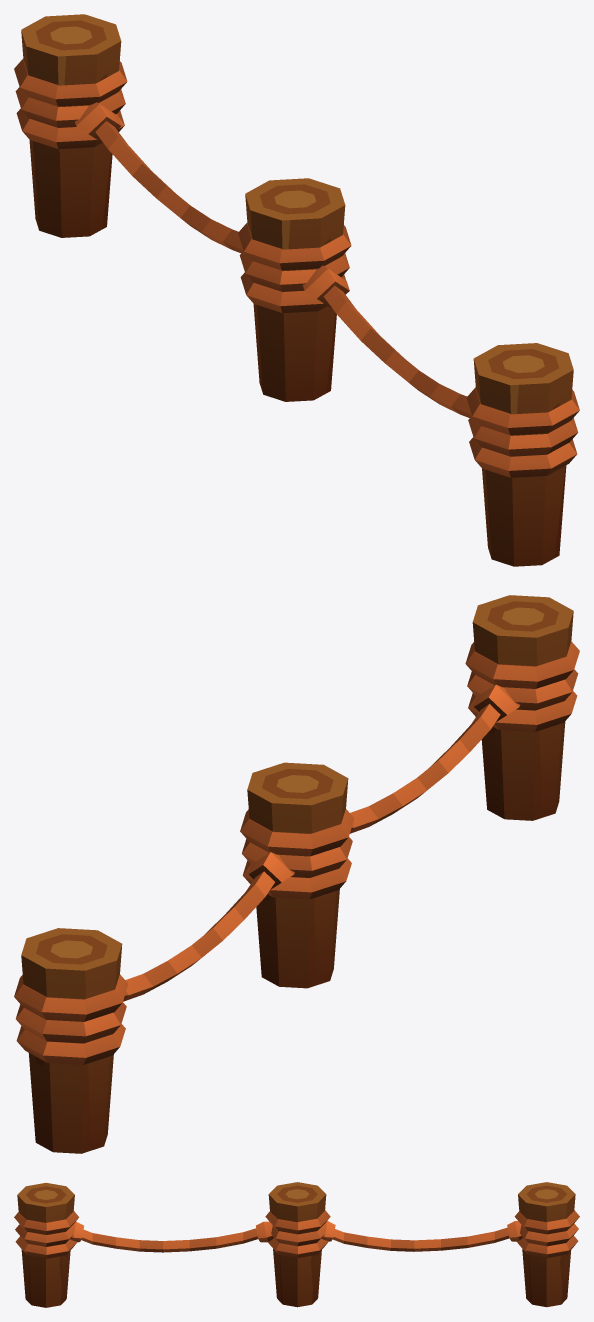
Rendered from fence_rope3.glb.
3 renders of one model, top to bottom at view 1: azimuth 30°, elevation 25°; view 2: azimuth 150°, elevation 25°; view 3: azimuth 270°, elevation 25°, orthographic. The views are drawn at different scales.
Parts seen in each view (by area): view 1: fence_rope3; view 2: fence_rope3; view 3: fence_rope3.
Part boxes in pixels (x1,y1,x2,y2): fence_rope3: (14, 14, 579, 566); fence_rope3: (14, 595, 579, 1153); fence_rope3: (14, 1182, 579, 1307).
Bounding box in the file's own units: 0.2534 × 0.4352 × 2.14.
Materials: 1 (1 with a texture image).
